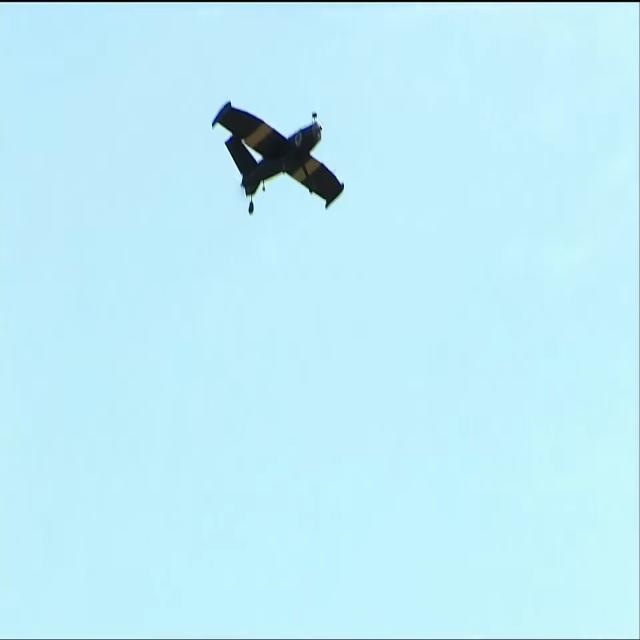iha: (211, 131, 345, 193)
